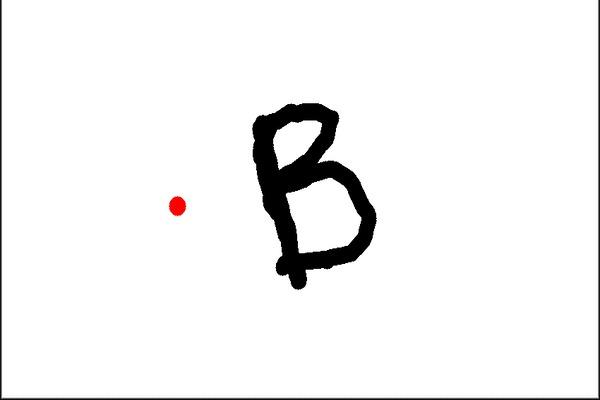B: (242, 94, 387, 298)
